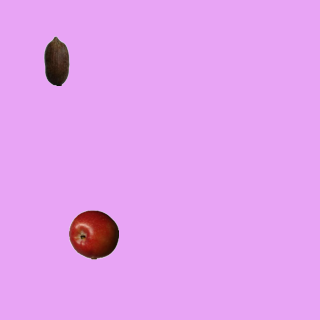Apple Braeburn: (68, 209, 118, 259)
Nut Pecan: (31, 35, 81, 85)
